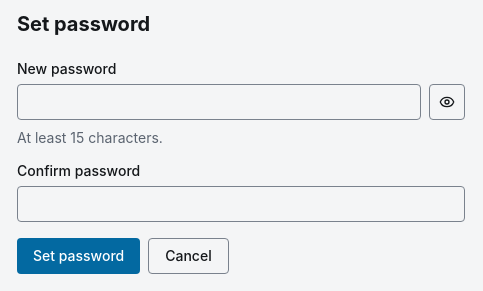
Test case: falls back to the invalid-link message when the link is used up before submitting
This screenshot has width=483, height=291.
In the password field labelled "New password": (219, 102) 17,84 -> 421,120, type "a long enough password"
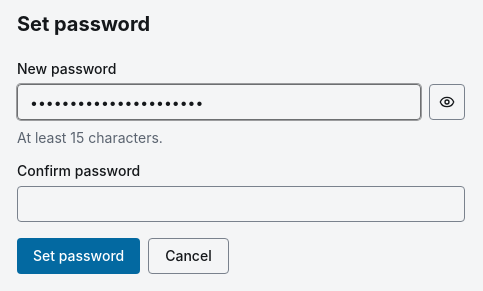
In the password field labelled "Confirm password": (241, 204) 17,186 -> 465,222, type "a long enough password"
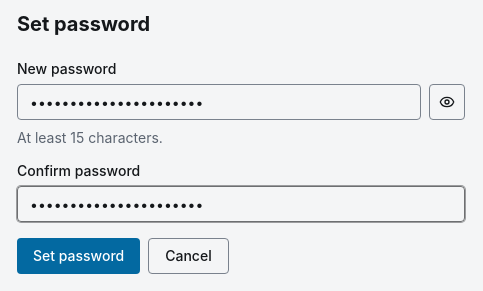
Click the button "Set password": click(79, 256) 17,238 -> 140,274
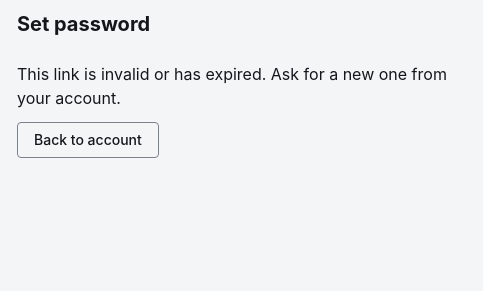
Check: the message shows "invalid or has expired", box 17,64 -> 266,84
